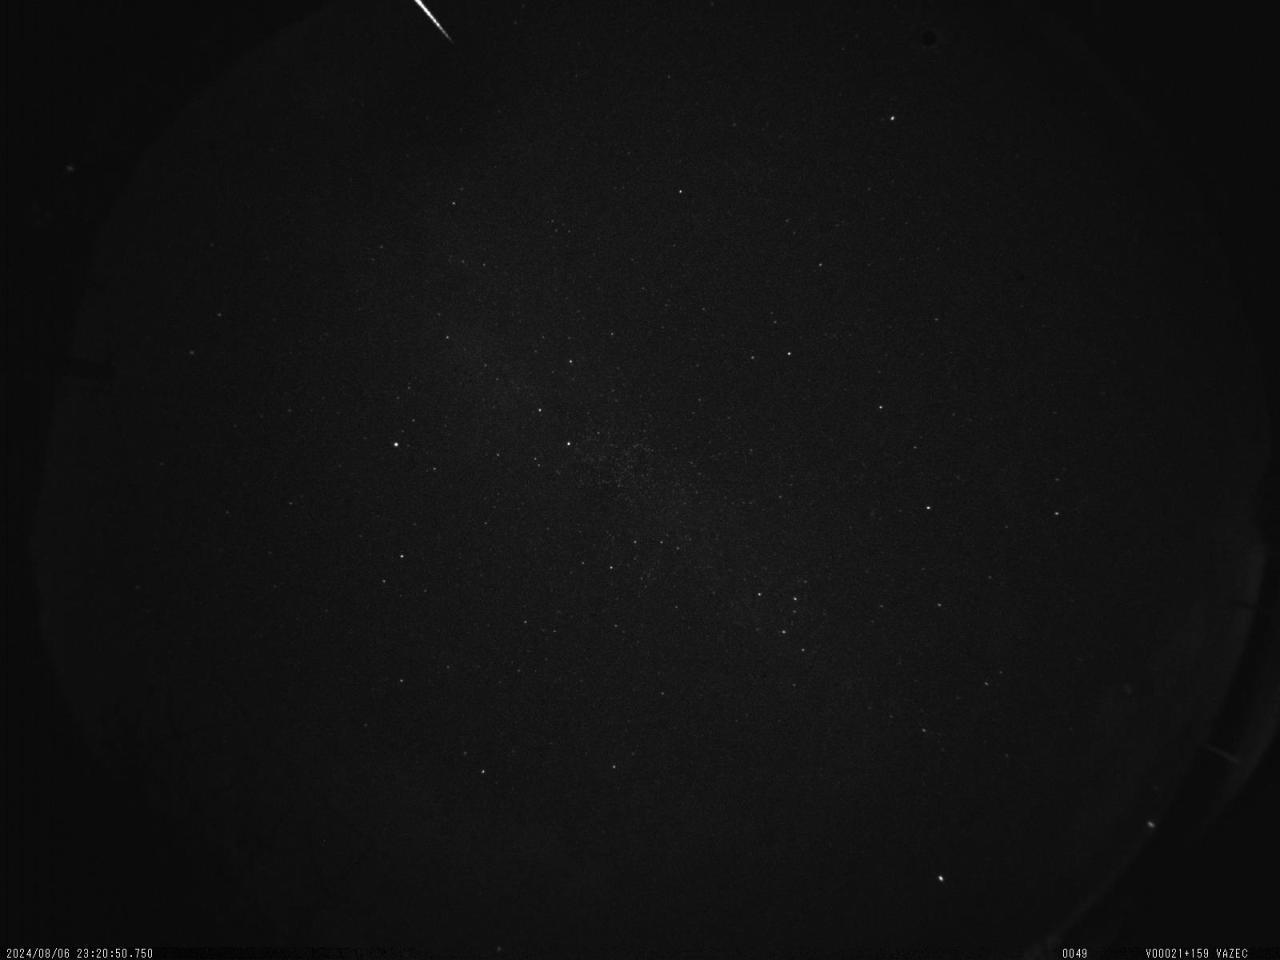Meteor: (412, 0, 454, 44)
